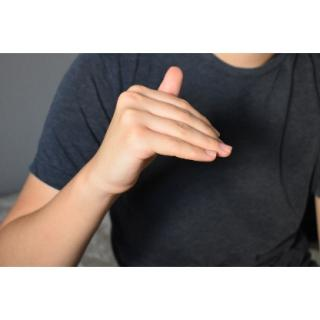KHAA: (86, 62, 236, 198)
